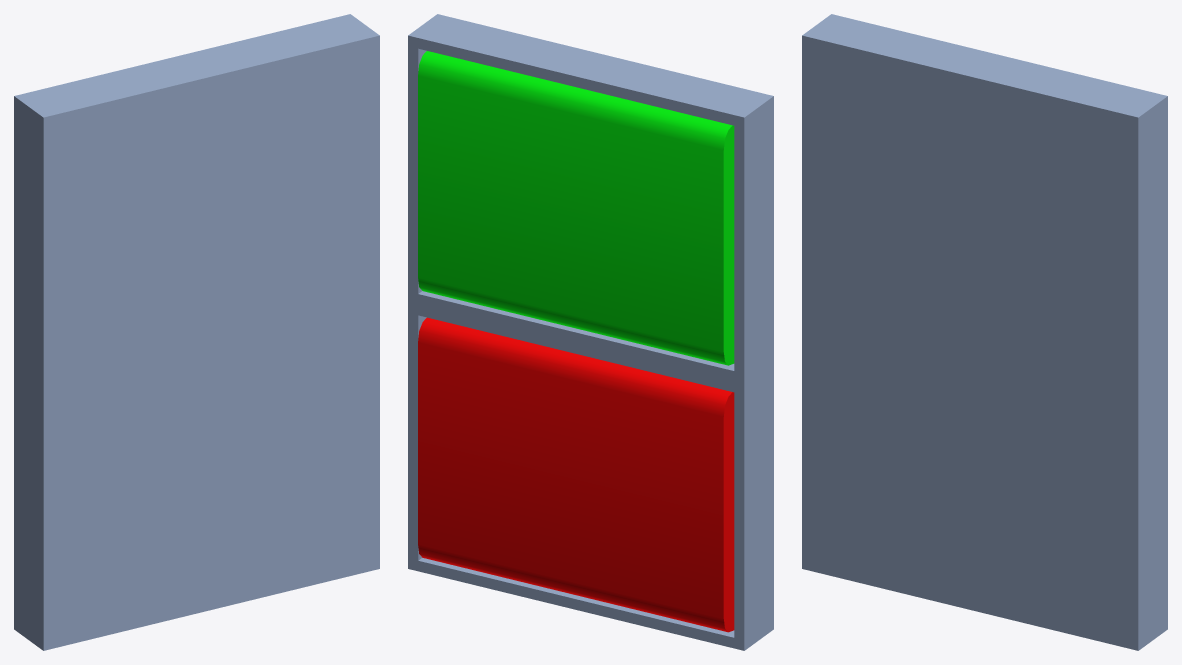
Rendered from Indicator.FBX.
3 views of the same model, side by side, from view 1: azimuth 30°, elevation 25°; view 2: azimuth 150°, elevation 25°; view 3: azimuth 330°, elevation 25° (orthographic).
Parts seen in each view (by area): view 1: Indicator; view 2: RedIndicator, GreenIndicator, Indicator; view 3: Indicator.
Boxes of the visible parts, x1,y1,x2,y2 form: Indicator: (14, 14, 379, 650); RedIndicator: (418, 317, 734, 632); GreenIndicator: (418, 51, 734, 365); Indicator: (408, 14, 773, 650); Indicator: (802, 14, 1167, 650).
Size of the model in its own units: 12.99 by 19.69 by 2.34.
